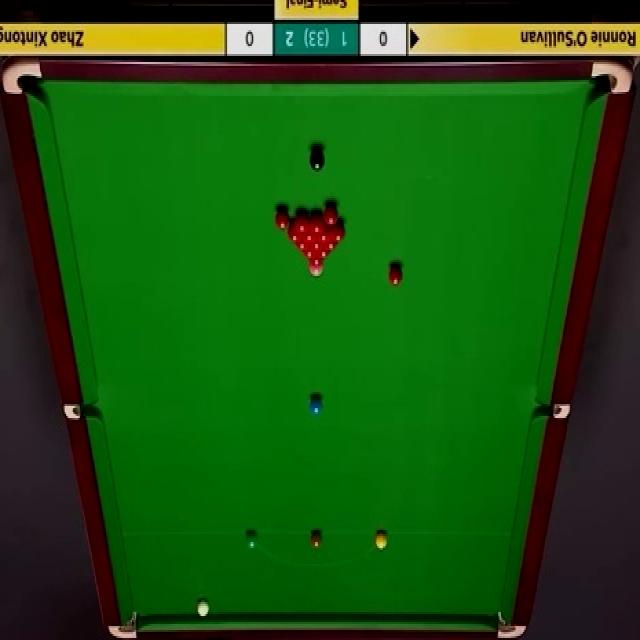pocket: (3, 57, 47, 98), (589, 58, 633, 96), (494, 609, 530, 640), (109, 611, 139, 640), (60, 403, 99, 420), (535, 403, 573, 419)
